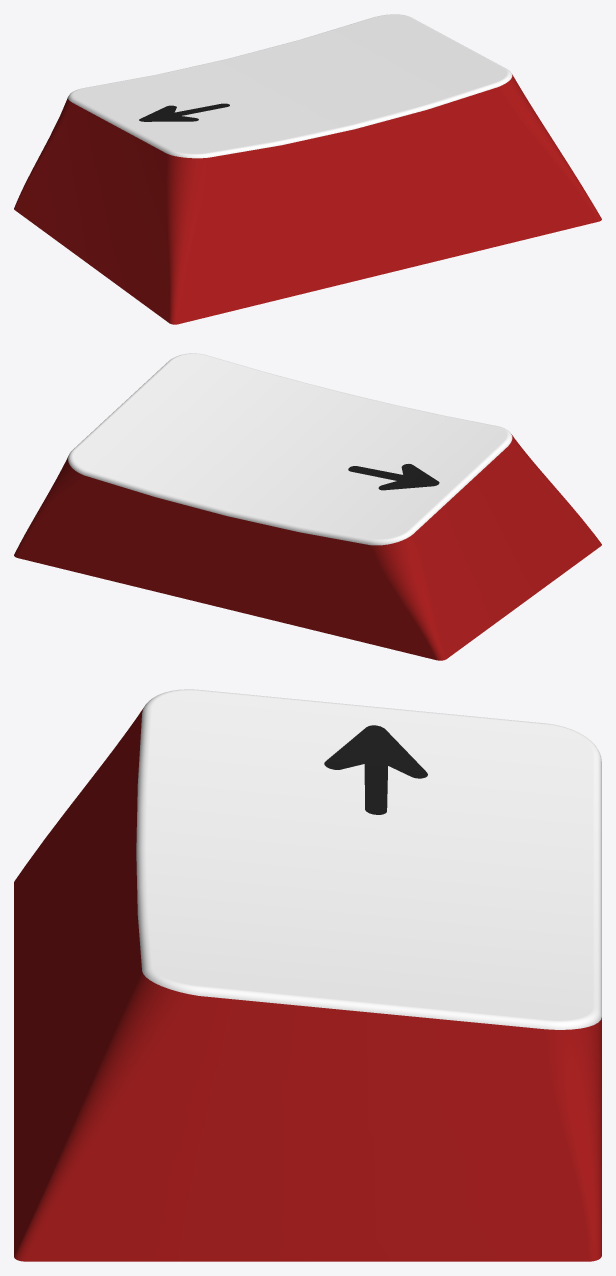
File: Backspace Icon 150.fbx
3 renders of one model, top to bottom at view 1: azimuth 30°, elevation 25°; view 2: azimuth 150°, elevation 25°; view 3: azimuth 270°, elevation 25°, orthographic. The views are drawn at different scales.
Visible parts, largest first — view 1: Body1; view 2: Body1; view 3: Body1.
Boxes of the visible parts, x1,y1,x2,y2 form: Body1: (14,14,601,324); Body1: (14,353,601,660); Body1: (14,689,601,1261).
Size of the model in its own units: 27.81 by 7.89 by 18.
